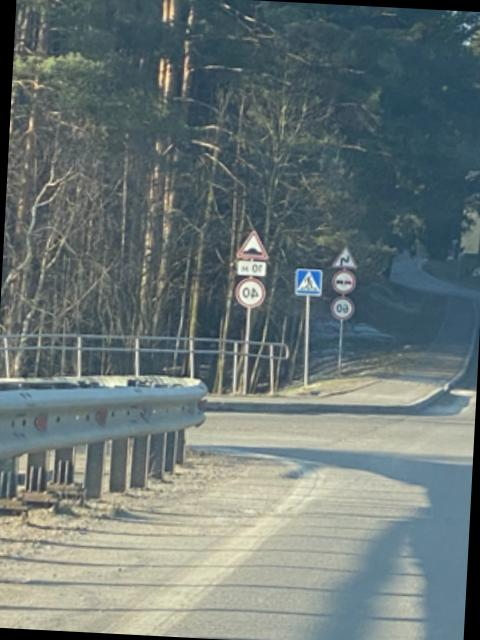crosswalk-sign: (295, 267, 325, 298)
